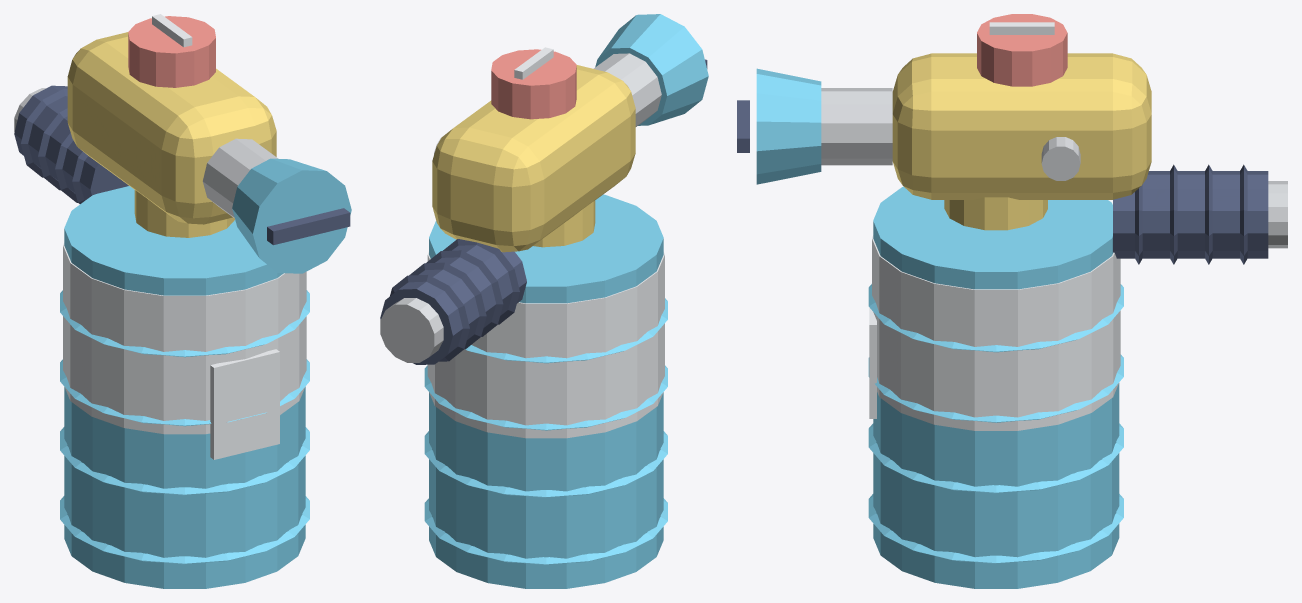
The model's file is T_foam_cannon_v2.glb.
3 renders of one model, left to right at view 1: azimuth 30°, elevation 25°; view 2: azimuth 150°, elevation 25°; view 3: azimuth 270°, elevation 25°, orthographic. The views are drawn at different scales.
Parts seen in each view (by area): view 1: Bottle, MixerHead, Nozzle, Grip; view 2: Bottle, MixerHead, Grip, Nozzle; view 3: Bottle, MixerHead, Grip, Nozzle.
Part boxes in pixels (left/top/right/bottom): Bottle: left=60, top=186, right=309, bottom=588; MixerHead: left=67, top=14, right=276, bottom=237; Nozzle: left=202, top=138, right=351, bottom=273; Grip: left=14, top=85, right=128, bottom=203; Bottle: left=424, top=194, right=667, bottom=588; MixerHead: left=432, top=47, right=635, bottom=252; Grip: left=380, top=239, right=526, bottom=364; Nozzle: left=593, top=14, right=708, bottom=126; Bottle: left=868, top=186, right=1123, bottom=588; MixerHead: left=892, top=14, right=1151, bottom=230; Grip: left=1113, top=164, right=1287, bottom=264; Nozzle: left=737, top=68, right=892, bottom=184.
Size of the model in its own units: 0.2 by 0.437 by 0.425.
